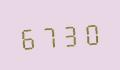seven: (39, 21, 59, 49)
six: (18, 22, 38, 51)
three: (60, 19, 80, 48)
zero: (81, 18, 101, 47)
